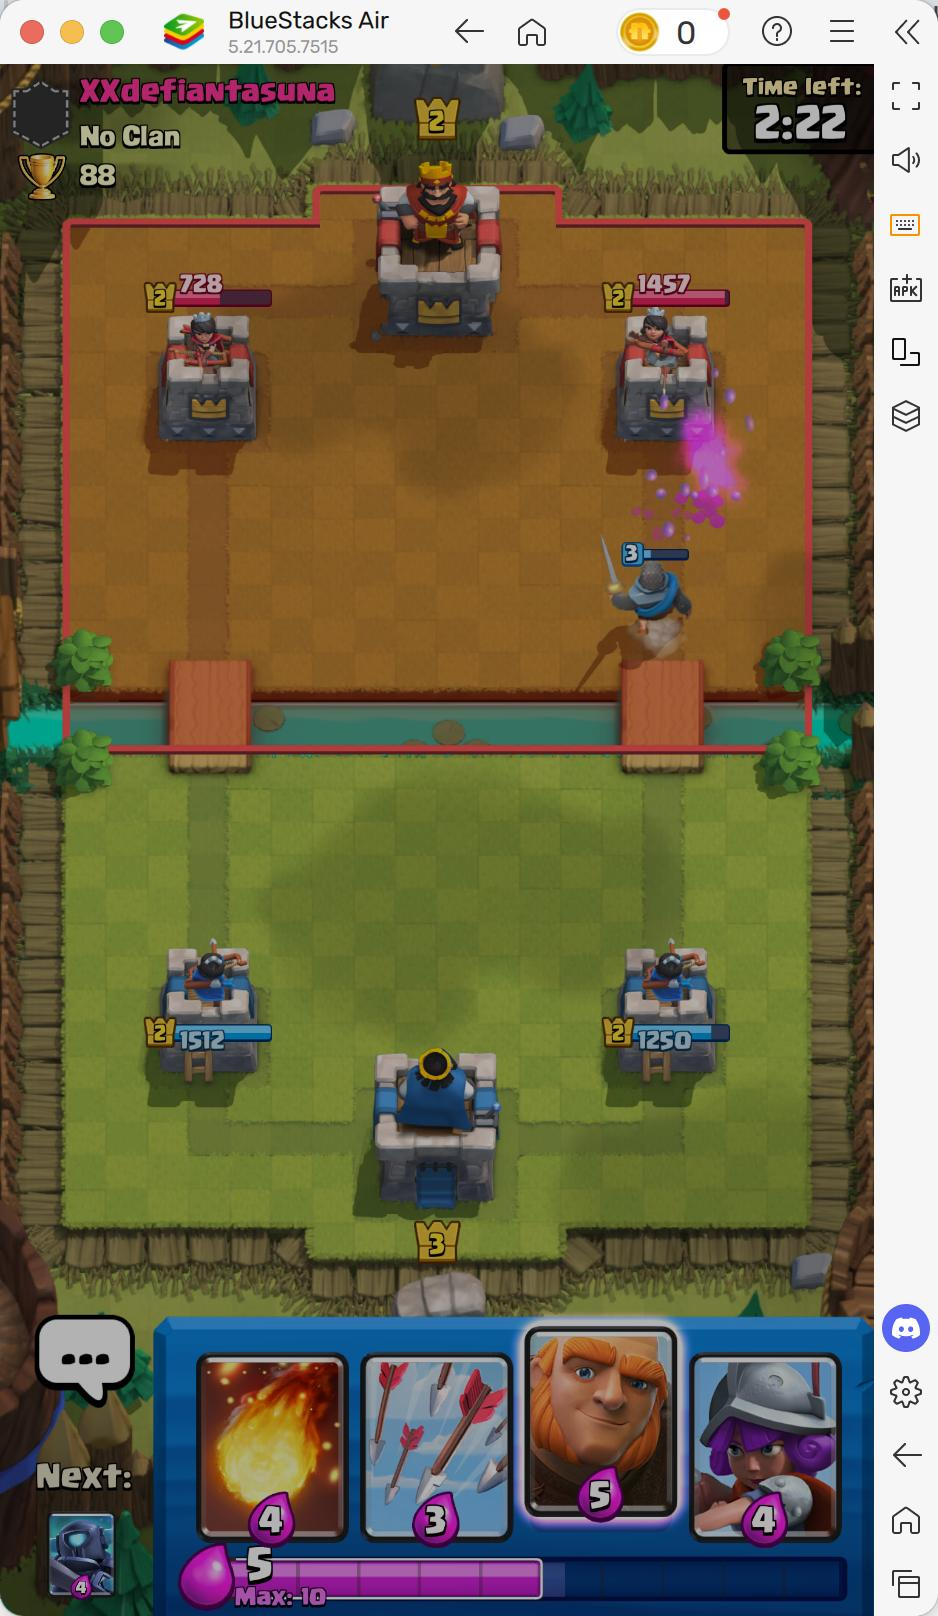0: (672, 1029, 695, 1051)
1: (635, 1029, 649, 1052), (178, 1029, 191, 1051), (201, 1028, 213, 1051), (636, 272, 649, 295)
14: (620, 942, 716, 1072), (160, 948, 258, 1074)
2: (794, 103, 823, 143), (819, 103, 846, 143), (753, 103, 781, 142), (210, 1028, 227, 1051), (645, 1029, 661, 1051), (193, 271, 208, 295)
3: (423, 1503, 449, 1538)
4: (256, 1500, 286, 1538), (749, 1502, 779, 1536), (647, 271, 664, 295), (74, 1577, 88, 1597)
5: (245, 1542, 274, 1585), (587, 1479, 612, 1512), (659, 1029, 676, 1051), (188, 1029, 203, 1052), (662, 272, 678, 296)
9: (674, 272, 693, 296), (178, 272, 195, 295)
Battle: (204, 272, 224, 295)
Friendly Winner: (613, 311, 716, 443), (156, 315, 257, 442)
